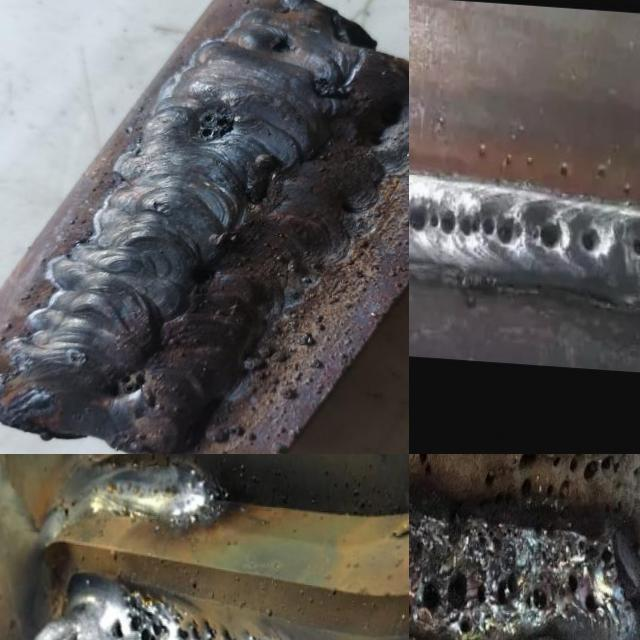defect: (409, 567, 551, 637), (409, 200, 526, 251), (544, 454, 627, 502), (107, 592, 173, 640), (563, 568, 603, 622), (98, 365, 154, 401), (187, 105, 238, 142), (576, 531, 618, 573), (308, 73, 360, 101), (513, 454, 536, 511), (536, 218, 562, 259), (267, 33, 302, 56), (577, 226, 601, 258), (409, 454, 437, 481), (185, 264, 215, 286), (63, 347, 86, 363), (482, 467, 497, 488)
